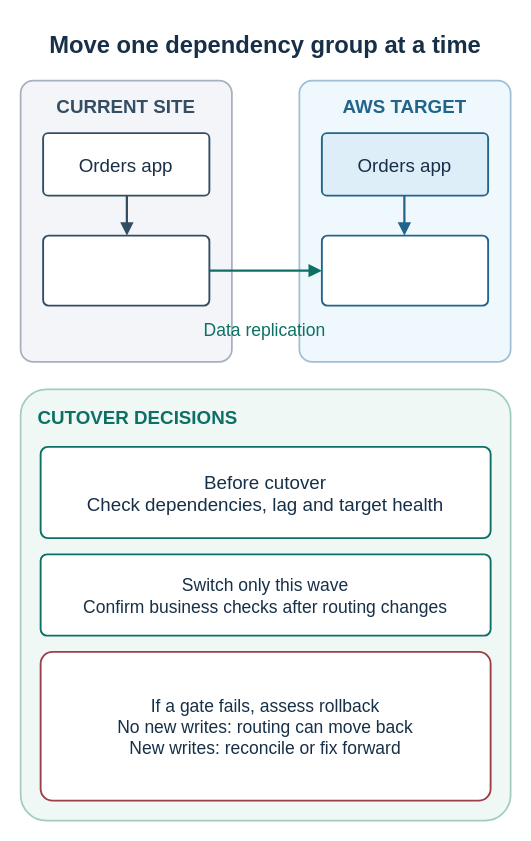
Image size: 531x841. Some labels were removed from this diagram. Each missing label, with the box of its shape:
Current database: (42, 234, 210, 306)
Replica / target DB: (320, 234, 488, 306)
